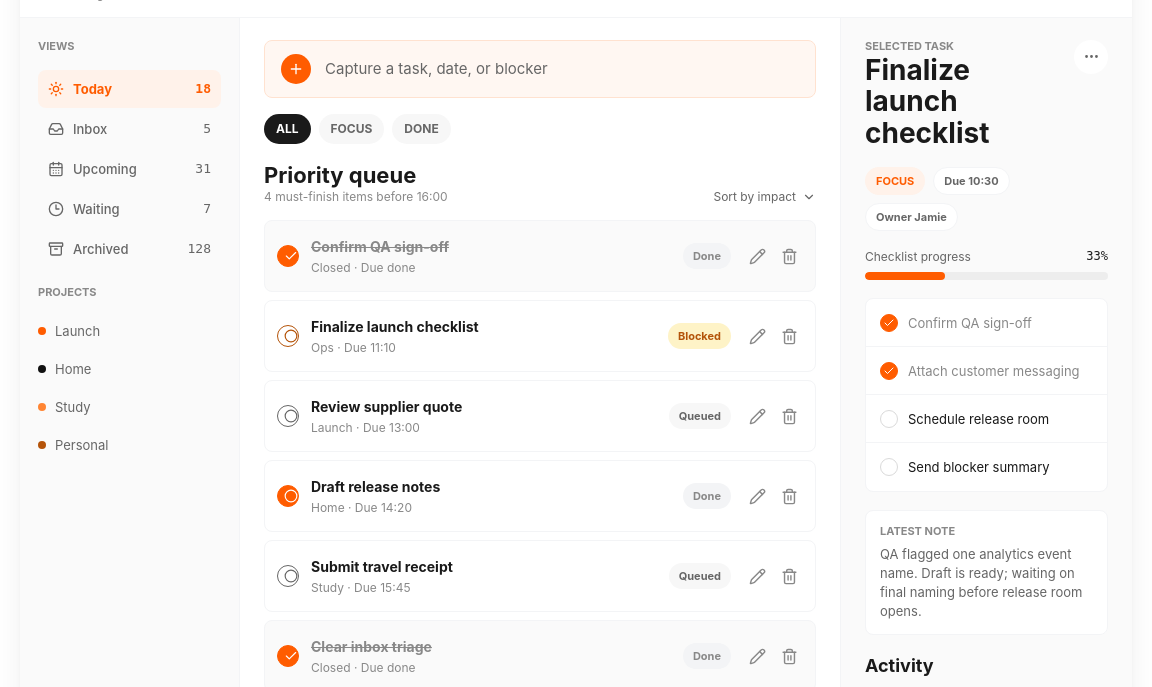
Test: App › deletes a task
This screenshot has width=1152, height=687.
(page scrolled)
Expected: the text "Finalize launch checklist" is shown, x1=311 y1=318 x2=479 y2=335
Click the button named "Delete task" in the row of "11:10" at coordinates (789, 336), box x1=775 y1=322 x2=803 y2=350
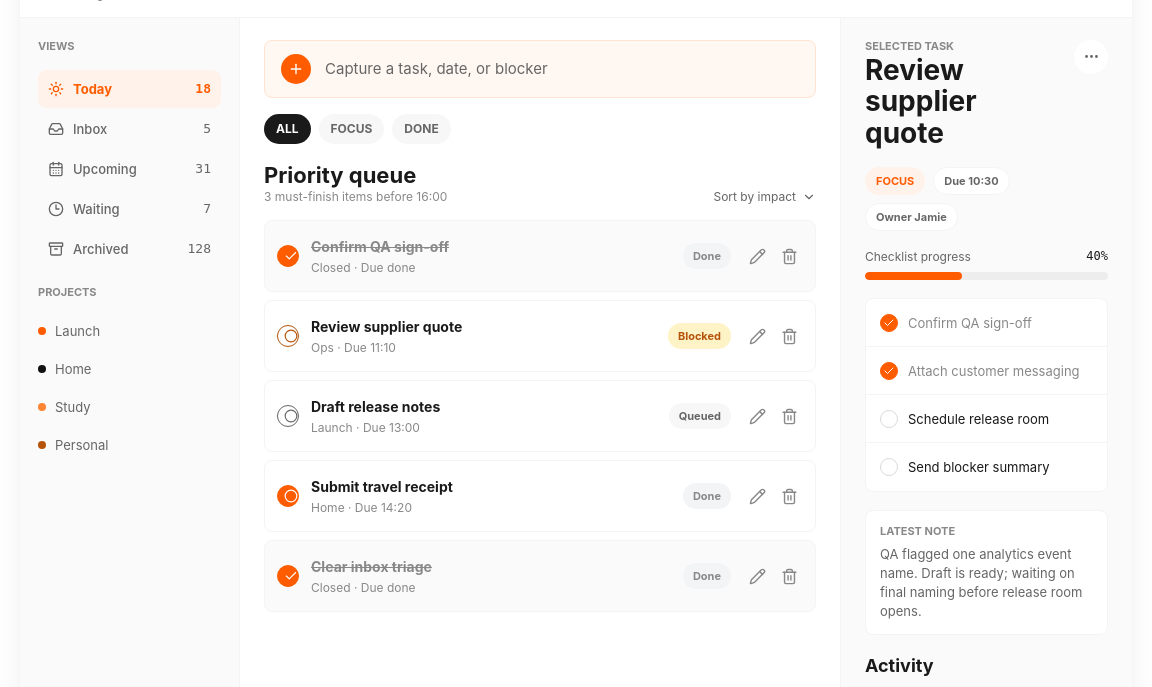
Now the heading "Finalize launch checklist" is gone
